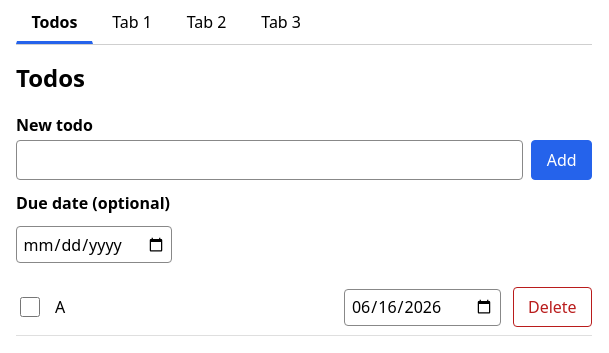
UI19 due-date change › UI19 change PATCHes {dueDate} and updates overdue state and badge
In the date field named "Due date for \"A\"": (422, 307) 344,288 -> 501,326, type "2026-06-14"
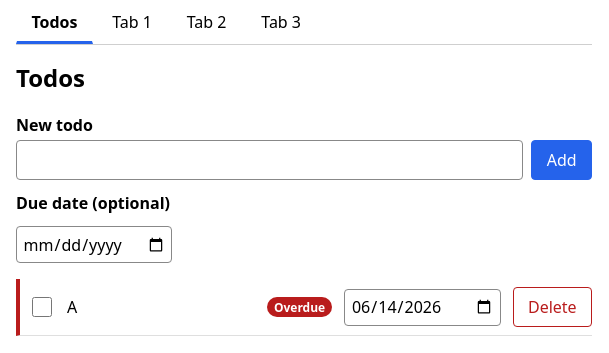
expect the text with class "overdue-badge" reads "Overdue": met, box 274,299 -> 325,316
